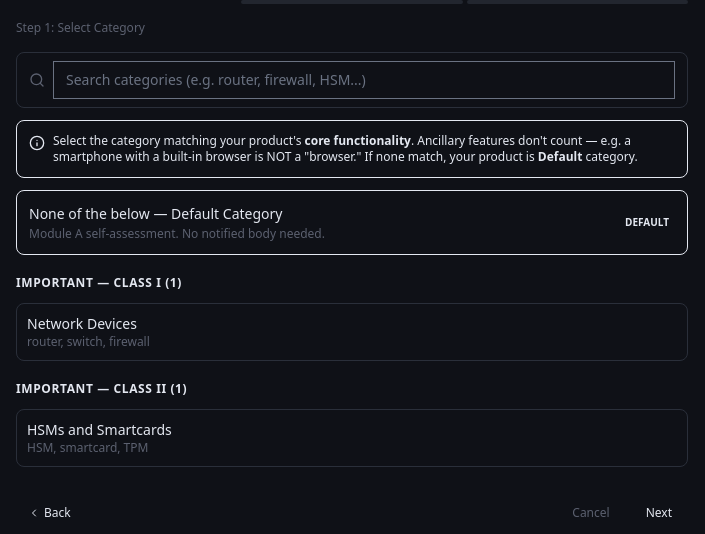
Test case: CraClassificationWizard › clearing the search restores the full list
Check: the text "Network Devices" is shown, box [27, 314, 137, 333]
In the field with placeholder "Search categories (e.g. router, firewall, HSM...)": coordinates (364, 80) [53, 61, 675, 99], type "xyz-no-match"
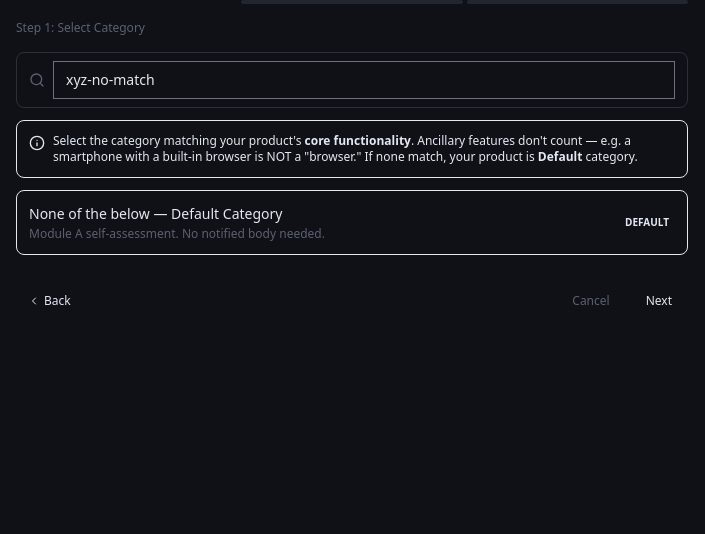
Check: the button "Network Devices" is gone
Clear the field with placeholder "Search categories (e.g. router, firewall, HSM...)": coordinates (364, 80) [53, 61, 675, 99]
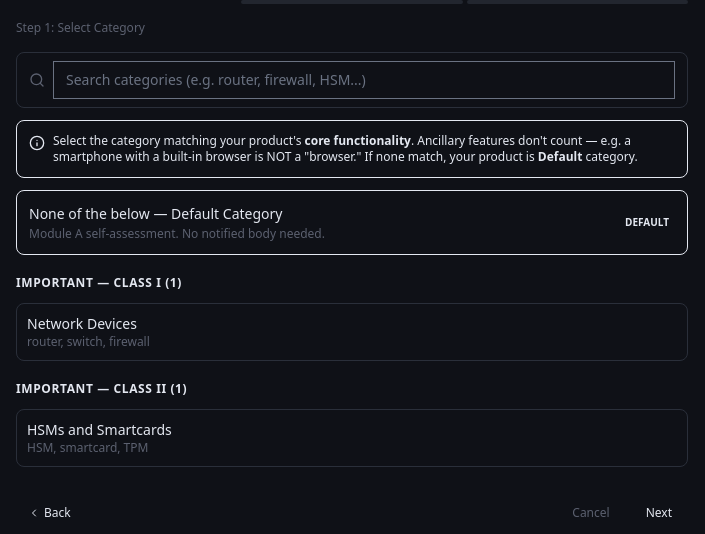
Check: the text "Network Devices" is shown, box [27, 314, 137, 333]
